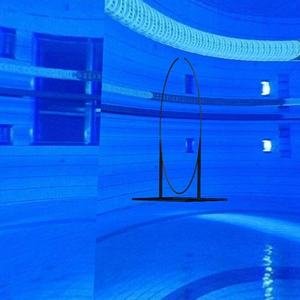circle: (131, 57, 230, 205)
